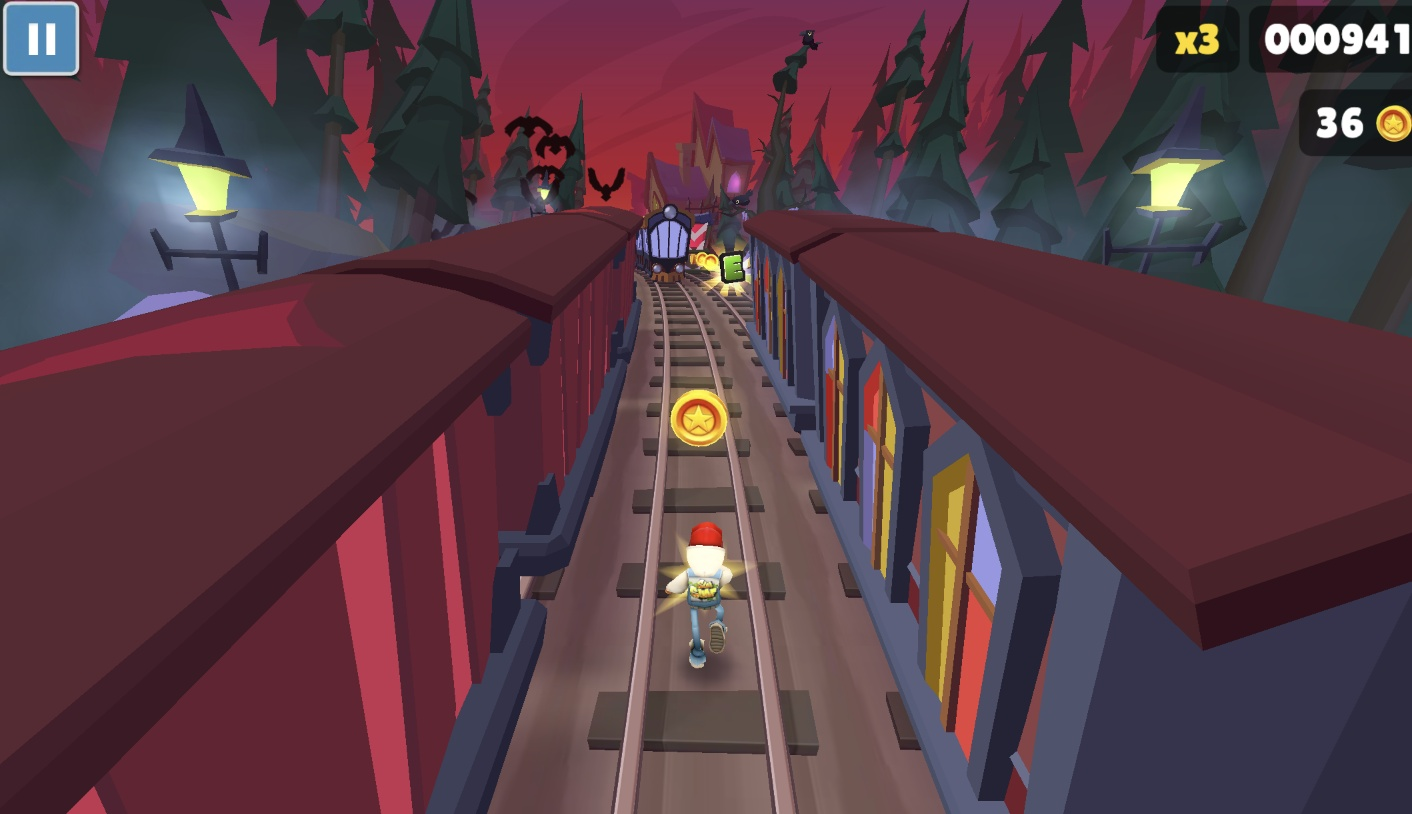overhead_barrier: (688, 213, 713, 263)
train: (0, 209, 638, 814), (760, 223, 1412, 814), (637, 204, 697, 284)
